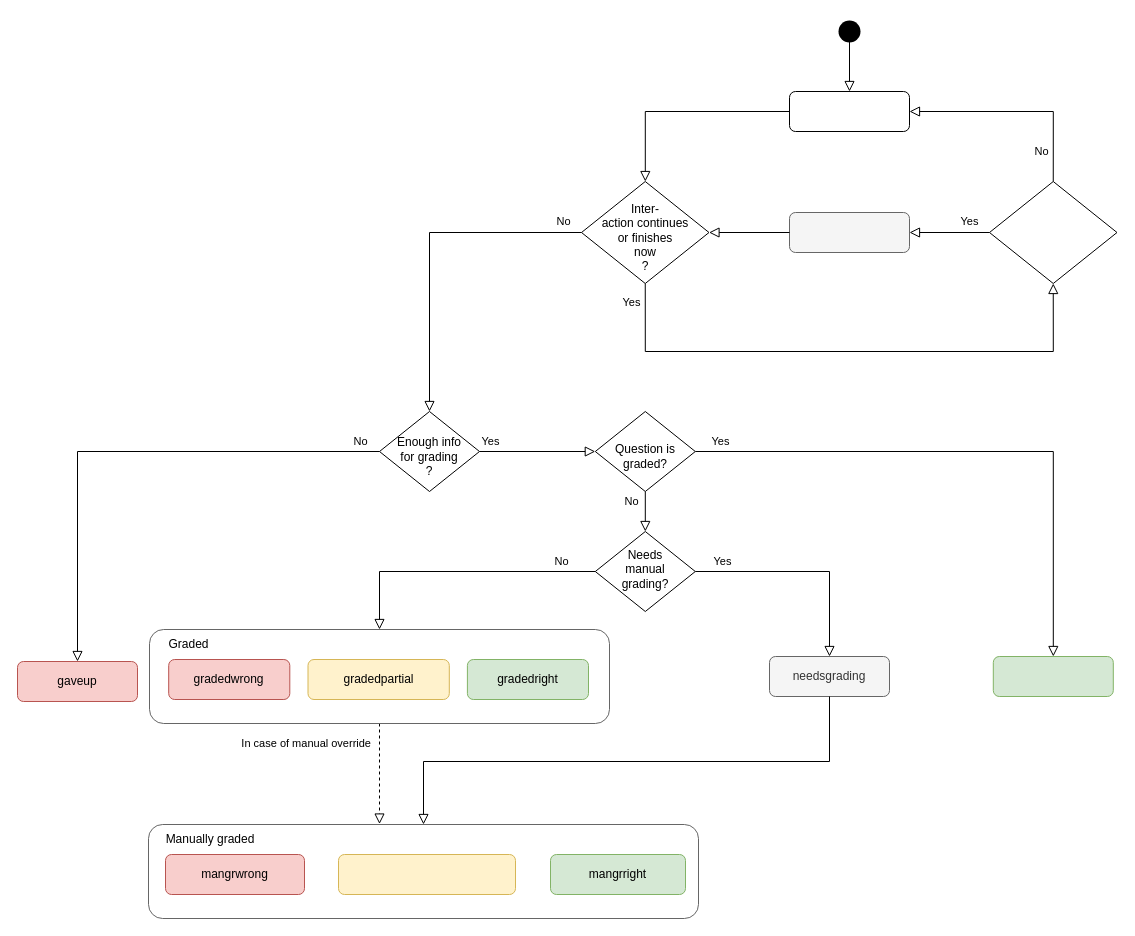
The diagram is 1135 pixels wide and 936 high, and some of its shapes have lost their labels. The centre of each missing label's shape, as x and y in pixels:
complete: the point at 849,232
finished: the point at 1052,676
mangrpartial: the point at 427,874
Student has completed all parts of the question ?: the point at 1052,232
todo: the point at 849,111
